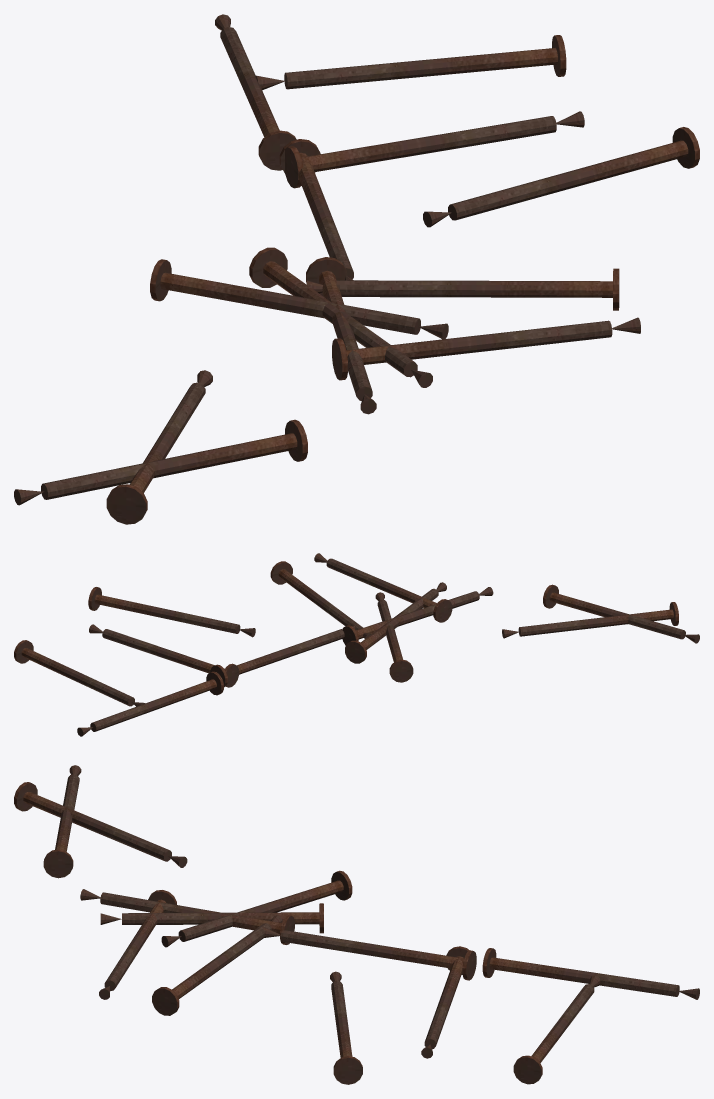
File: EST-PRG-002.glb
The picture shows the model from 3 angles, top to bottom: view 1: azimuth 30°, elevation 25°; view 2: azimuth 150°, elevation 25°; view 3: azimuth 270°, elevation 25°; orthographic projection. The views are drawn at different scales.
Parts seen in each view (by area): view 1: Prego 17x27, Prego 17x27.008, Prego 17x27.002, Prego 17x27.003, Prego 17x27.010, Prego 17x27.005, Prego 17x27.006, Prego 17x27.011, Prego 17x27.001, Prego 17x27.007, Prego 17x27.009, Prego 17x27.004; view 2: Prego 17x27.008, Prego 17x27.001, Prego 17x27.007, Prego 17x27.010, Prego 17x27, Prego 17x27.005, Prego 17x27.002, Prego 17x27.004, Prego 17x27.003, Prego 17x27.009, Prego 17x27.011, Prego 17x27.006; view 3: Prego 17x27.007, Prego 17x27.004, Prego 17x27.001, Prego 17x27.006, Prego 17x27.003, Prego 17x27.011, Prego 17x27.009, Prego 17x27, Prego 17x27.008, Prego 17x27.010, Prego 17x27.005, Prego 17x27.002.
Boxes of the visible parts, bbox=[...] form: Prego 17x27: bbox=[255, 35, 566, 90]; Prego 17x27.008: bbox=[423, 127, 699, 227]; Prego 17x27.002: bbox=[285, 111, 584, 188]; Prego 17x27.003: bbox=[306, 268, 619, 310]; Prego 17x27.010: bbox=[14, 419, 307, 505]; Prego 17x27.005: bbox=[332, 317, 640, 380]; Prego 17x27.006: bbox=[150, 259, 448, 339]; Prego 17x27.011: bbox=[249, 247, 432, 387]; Prego 17x27.001: bbox=[106, 370, 212, 524]; Prego 17x27.007: bbox=[215, 14, 296, 170]; Prego 17x27.009: bbox=[306, 257, 376, 414]; Prego 17x27.004: bbox=[279, 139, 353, 280]; Prego 17x27.008: bbox=[88, 587, 255, 637]; Prego 17x27.001: bbox=[502, 602, 678, 638]; Prego 17x27.007: bbox=[77, 671, 223, 736]; Prego 17x27.010: bbox=[543, 584, 699, 643]; Prego 17x27: bbox=[14, 640, 145, 706]; Prego 17x27.005: bbox=[314, 553, 452, 622]; Prego 17x27.002: bbox=[89, 624, 239, 687]; Prego 17x27.004: bbox=[210, 624, 355, 687]; Prego 17x27.003: bbox=[270, 561, 371, 638]; Prego 17x27.009: bbox=[342, 587, 493, 645]; Prego 17x27.011: bbox=[345, 582, 446, 663]; Prego 17x27.006: bbox=[375, 592, 413, 682]; Prego 17x27.007: bbox=[482, 948, 699, 999]; Prego 17x27.004: bbox=[262, 927, 476, 980]; Prego 17x27.001: bbox=[14, 782, 187, 867]; Prego 17x27.006: bbox=[161, 870, 352, 947]; Prego 17x27.003: bbox=[152, 915, 282, 1015]; Prego 17x27.011: bbox=[100, 903, 323, 933]; Prego 17x27.009: bbox=[80, 889, 294, 944]; Prego 17x27: bbox=[513, 975, 600, 1084]; Prego 17x27.008: bbox=[330, 971, 362, 1084]; Prego 17x27.010: bbox=[43, 765, 81, 878]; Prego 17x27.005: bbox=[99, 890, 176, 999]; Prego 17x27.002: bbox=[421, 946, 469, 1058].
Size of the model in its own units: 0.2005 by 0.0084 by 0.1923.
1 material, 1 textured.
